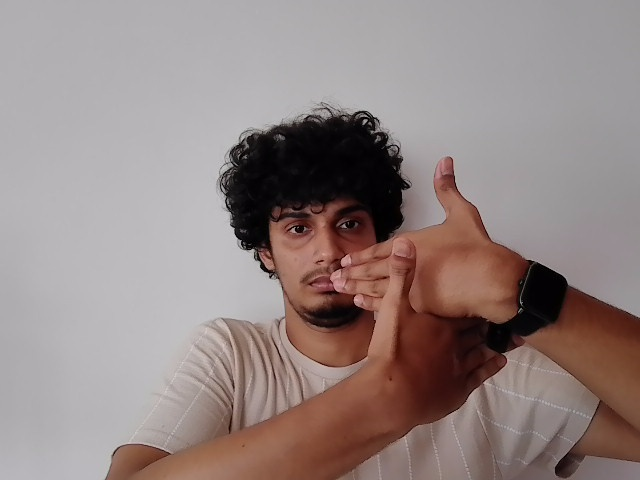work: (320, 158, 528, 434)
